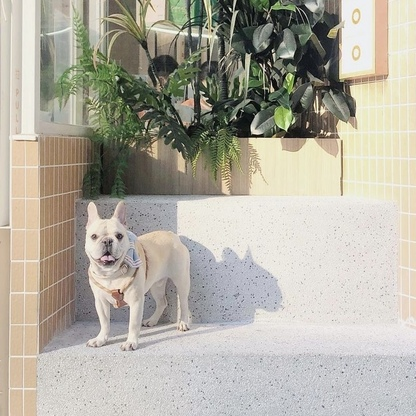bulldog: (84, 199, 193, 352)
